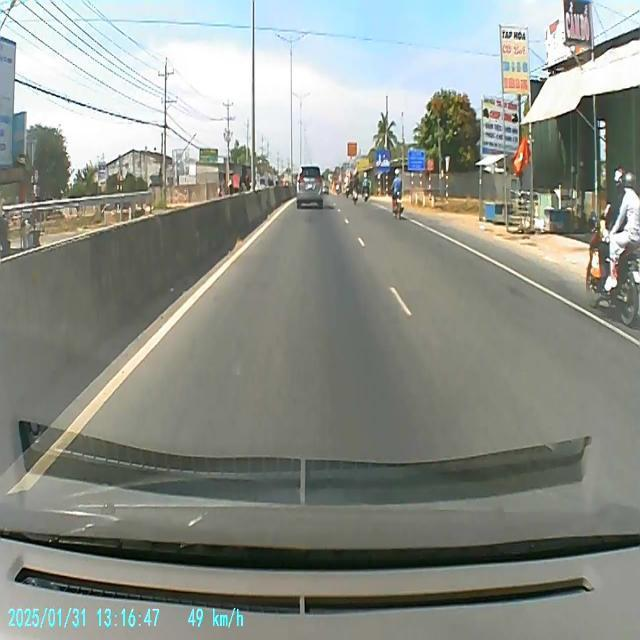421-ket-thuc-khu-dong-dan-cu: (376, 148, 390, 172)
